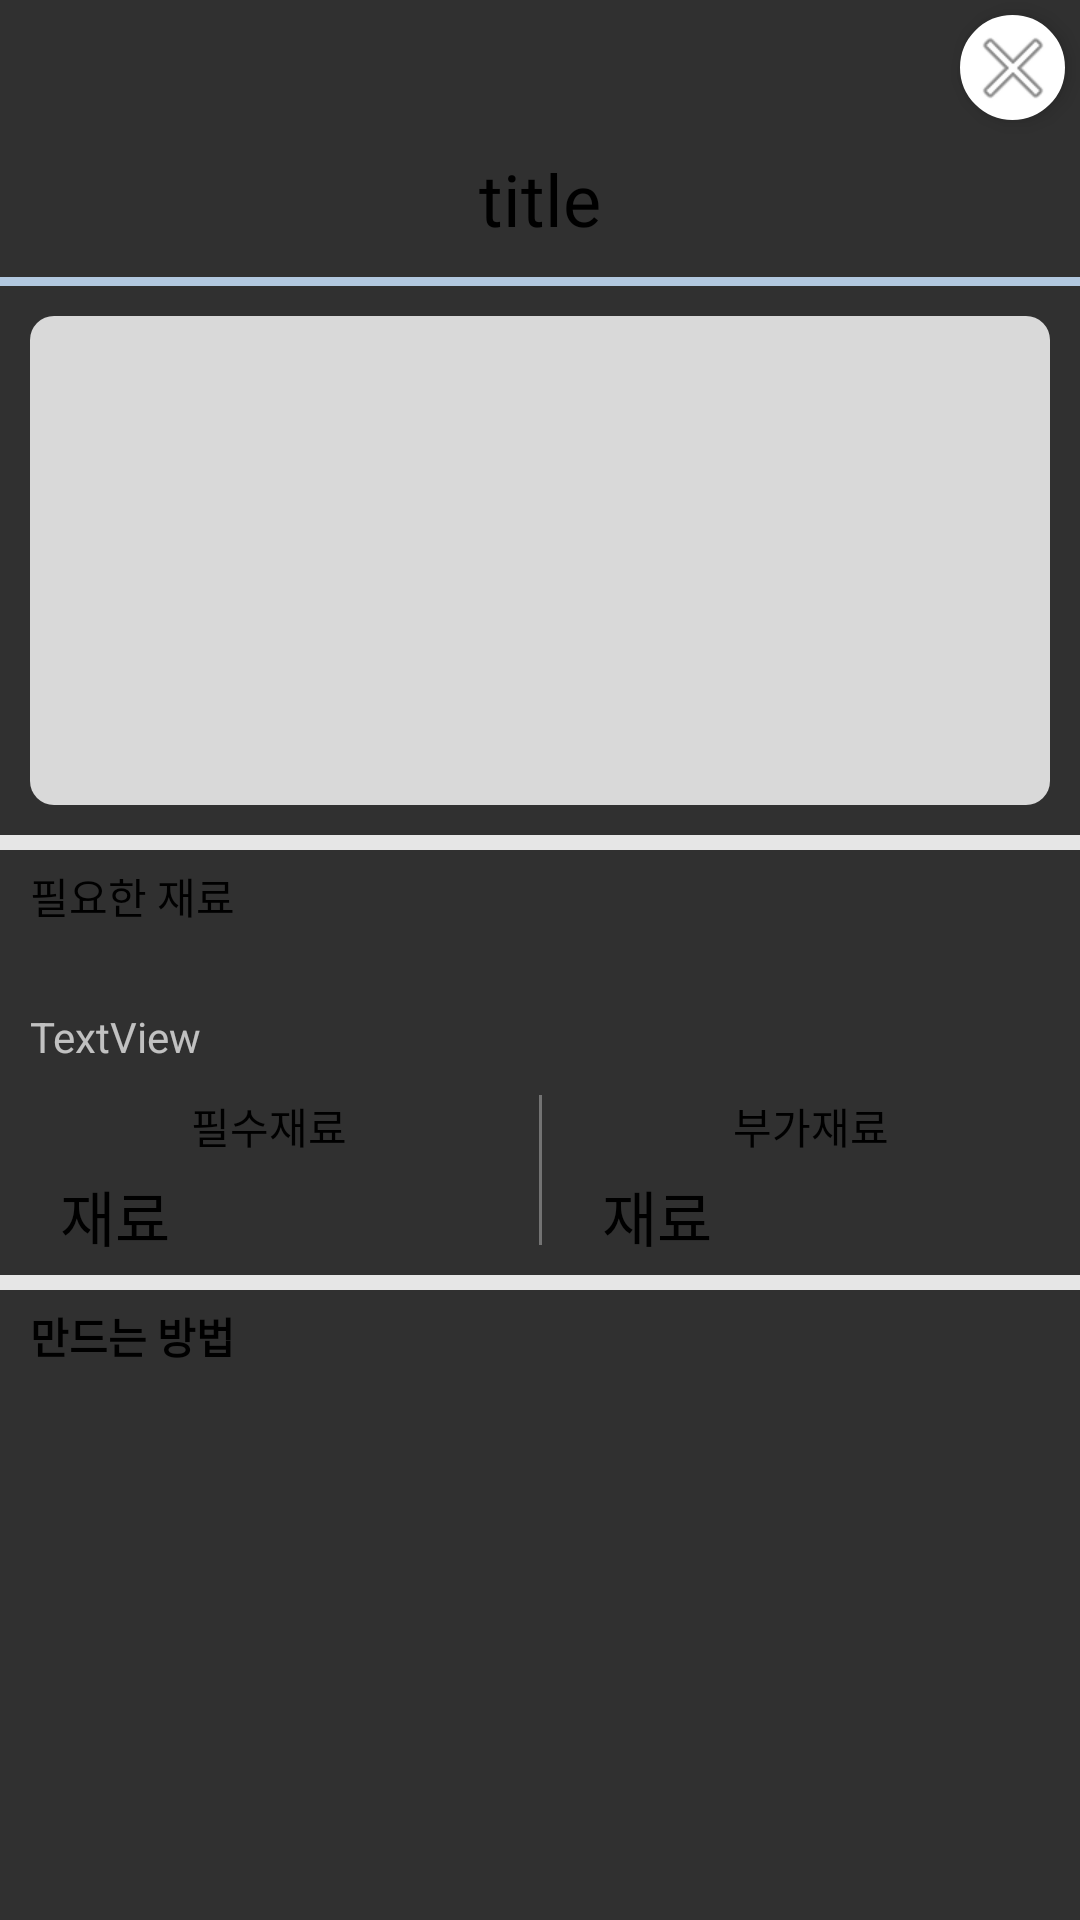

Named icons in this screenshot (1080w x 1920h) and their centers, point (x, y):
close clear cancel: point (1012, 67)
